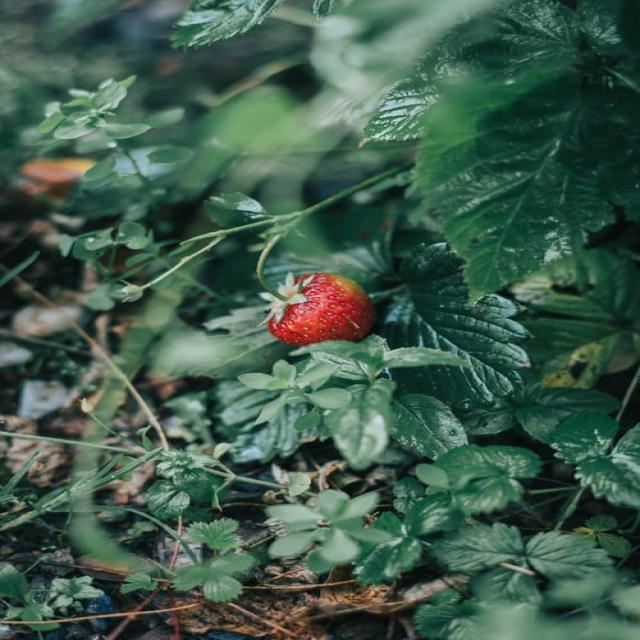mature: (267, 273, 375, 347)
